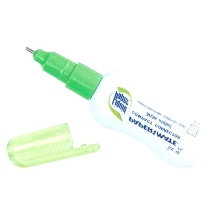correction_fluid: (22, 41, 214, 170)
